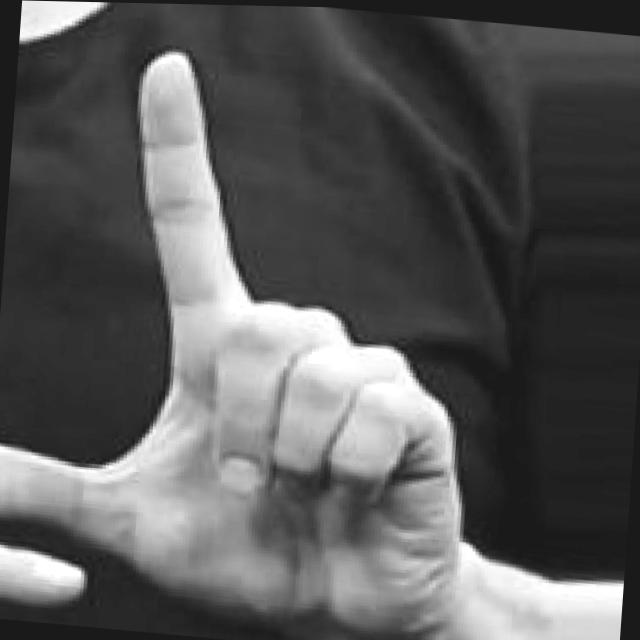L: (0, 24, 506, 640)
